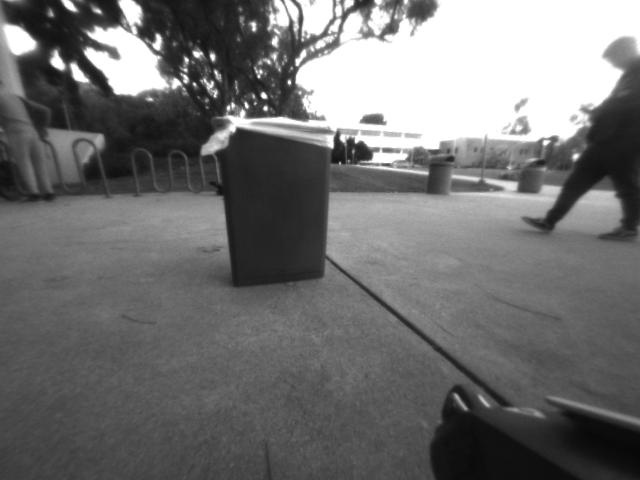trashcan_open: (204, 109, 350, 300)
